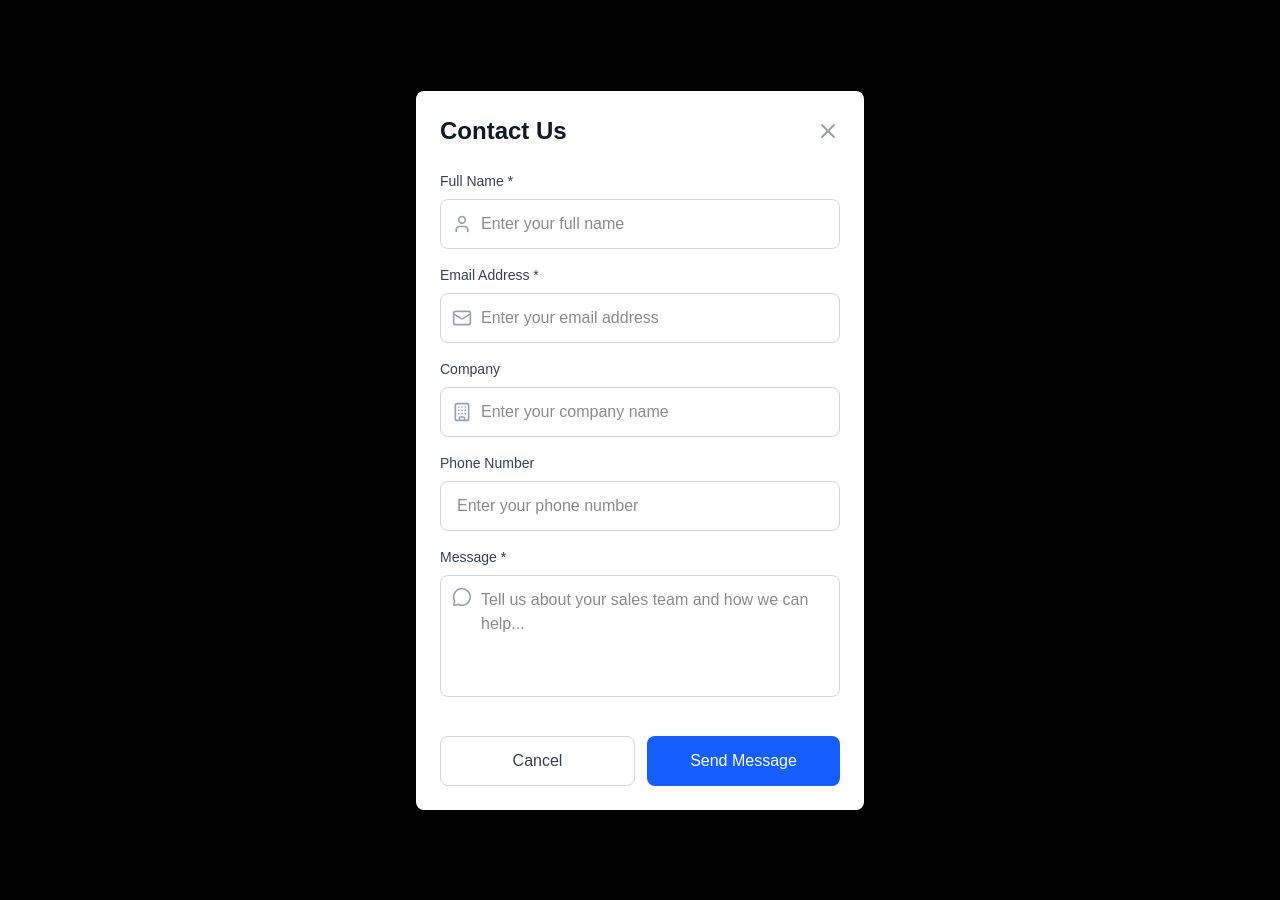
Test: ContactForm Component › shows error message when submission fails
Note: Fill and submit form
Type "John" into the field labelled "Full Name *". click: (640, 224)
box: top-left (440, 198), bottom-right (840, 248)
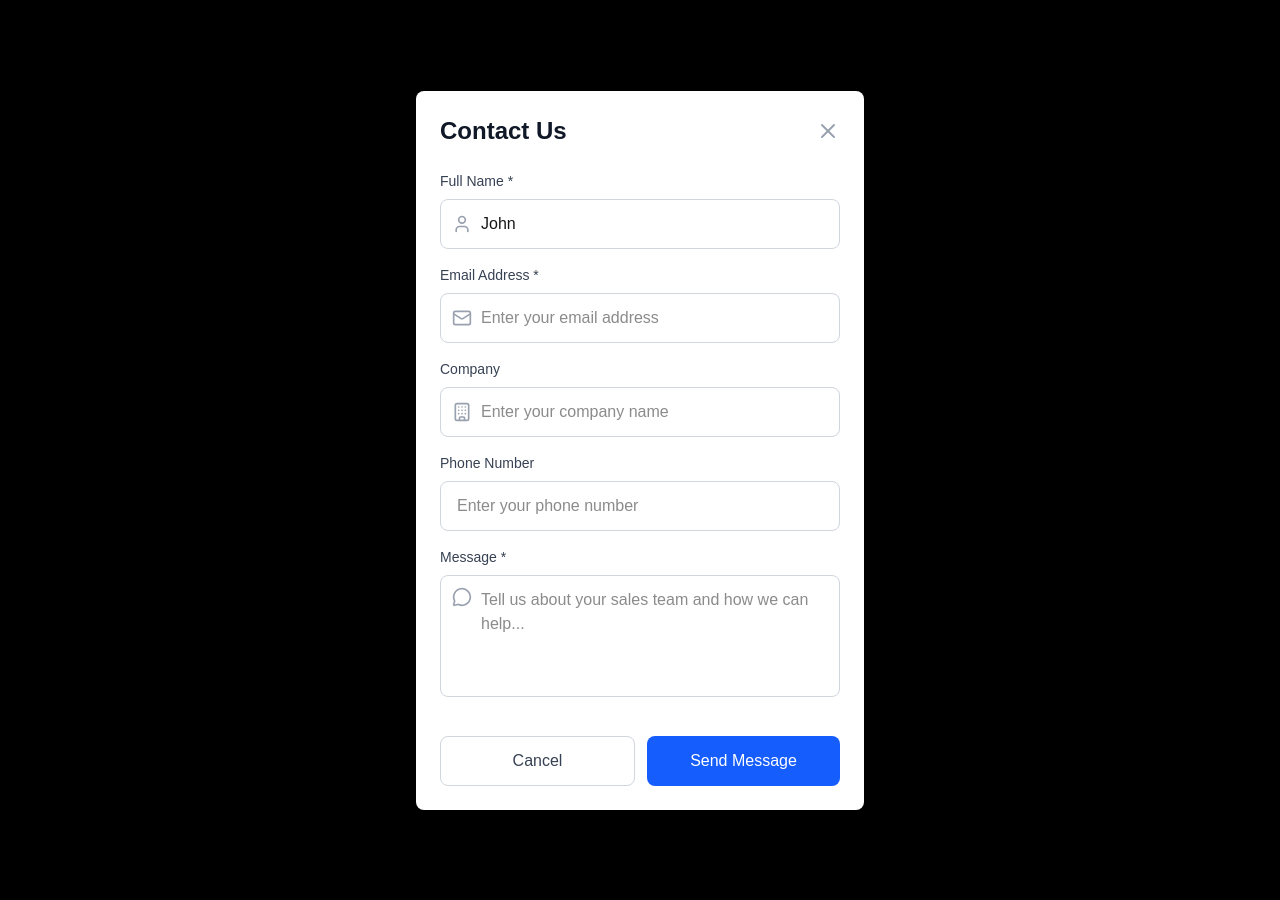
Type "john@example.com" into the field labelled "Email Address *". click: (640, 318)
box: top-left (440, 292), bottom-right (840, 342)
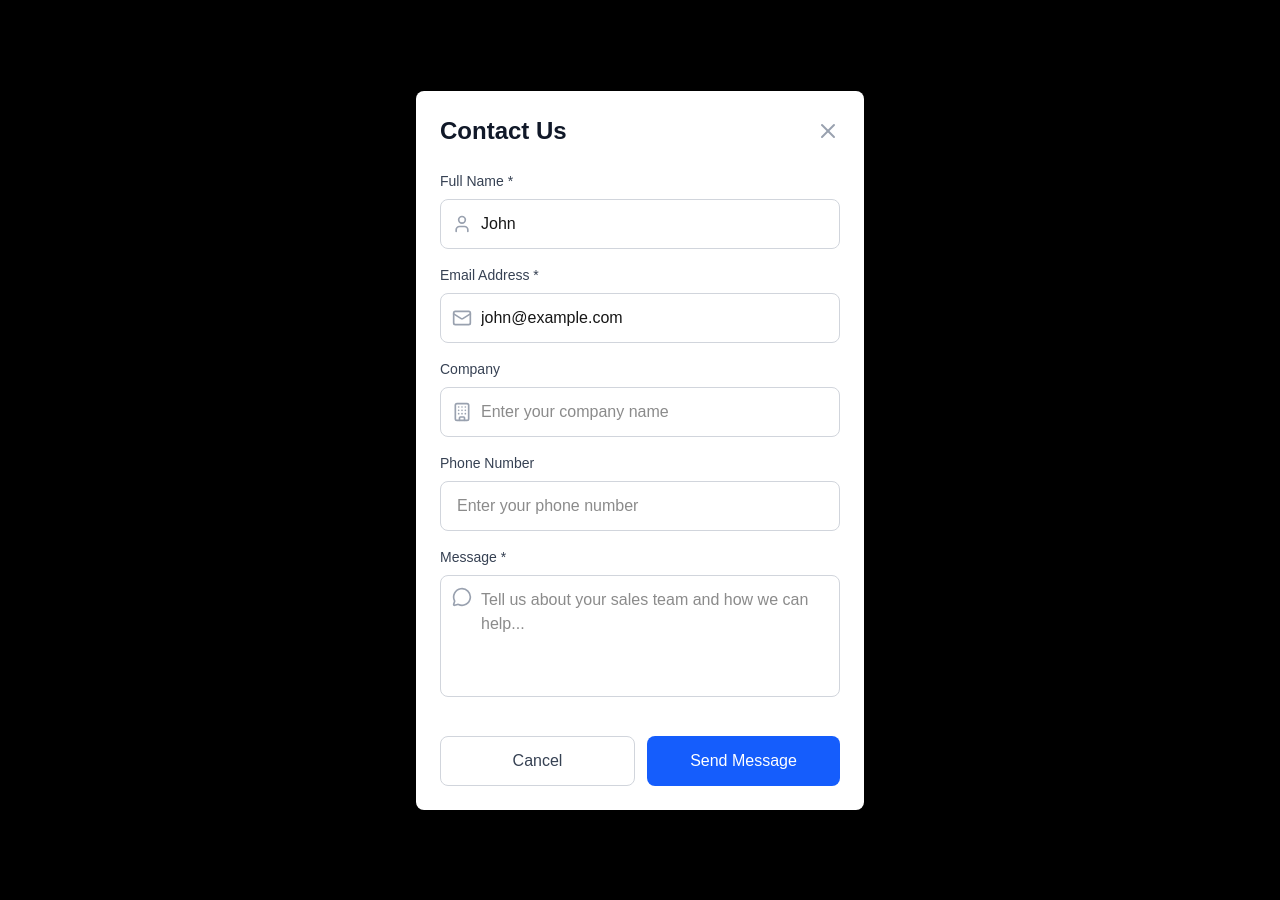
Type "Test" into the text box labelled "Message *". click: (640, 636)
box: top-left (440, 574), bottom-right (840, 696)
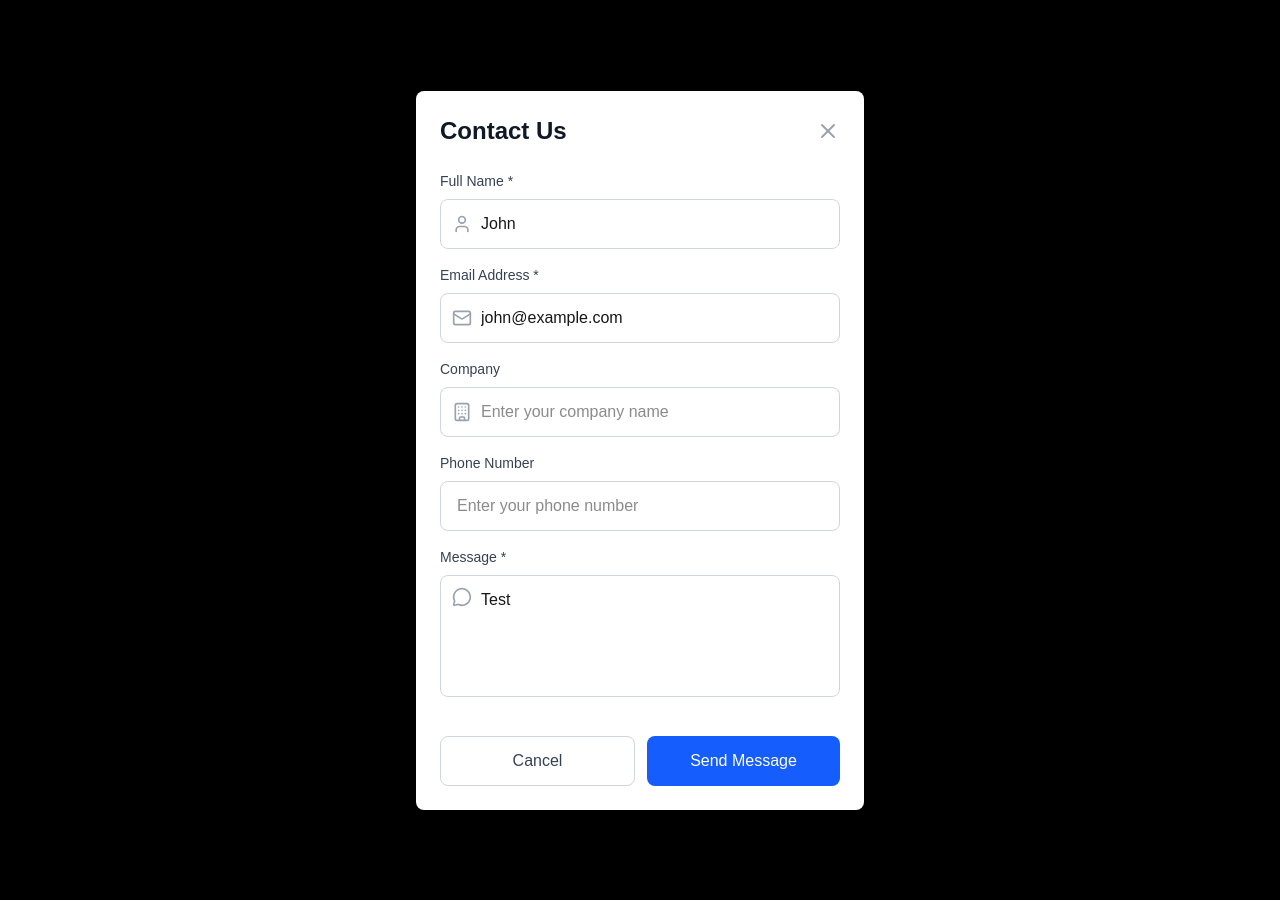
Click the button "Send Message". click: (744, 760)
box: top-left (647, 736), bottom-right (840, 786)
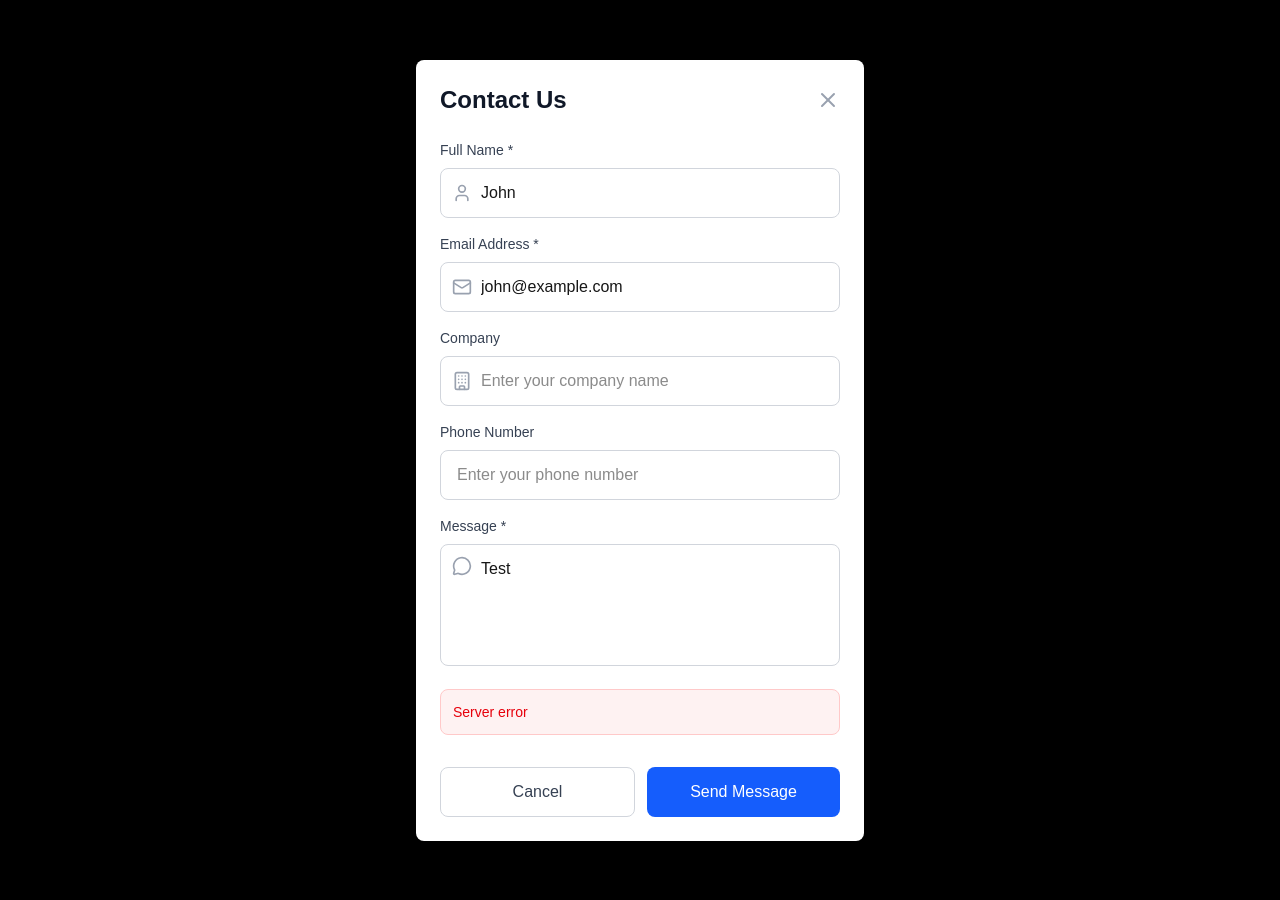
Check: the text "Server error" is shown, box top-left (453, 704), bottom-right (528, 720)
